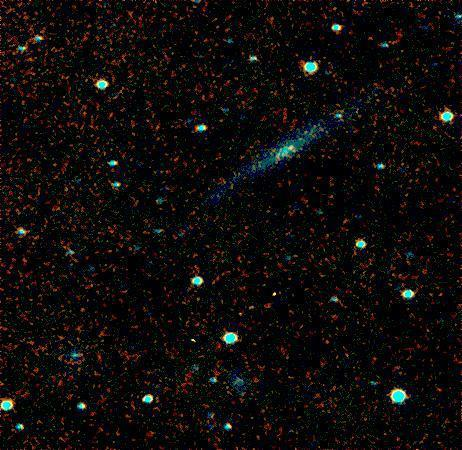star: (275, 132, 305, 162)
